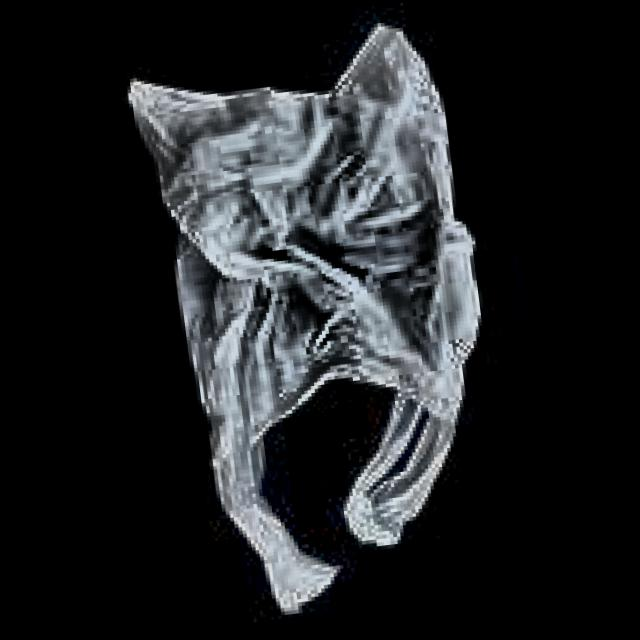plastic bag: (128, 26, 478, 612)
